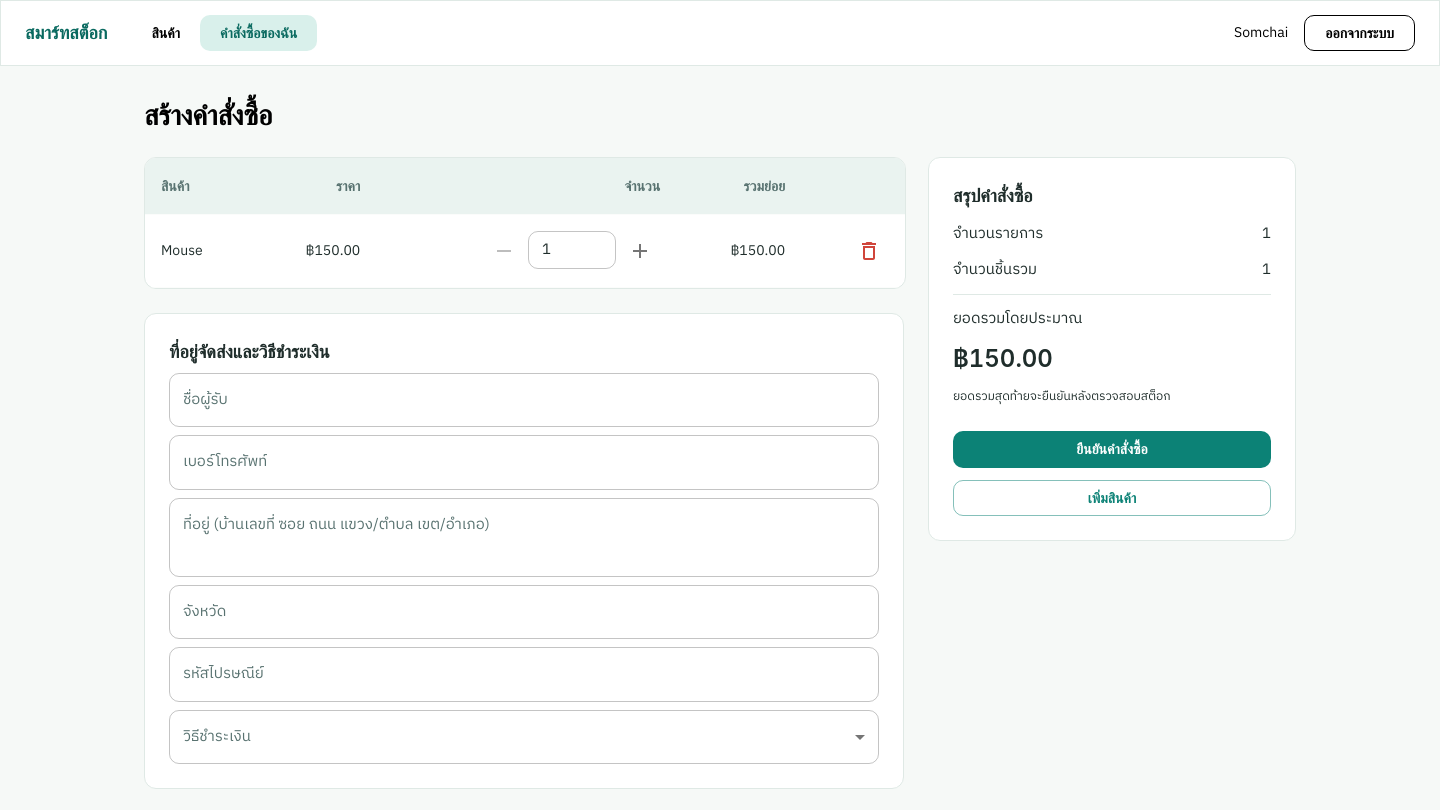
Test: disables confirm for an invalid quantity
This screenshot has width=1440, height=810.
Clear the number field named "จำนวน Mouse" at (572,250), box [528,231,616,269]
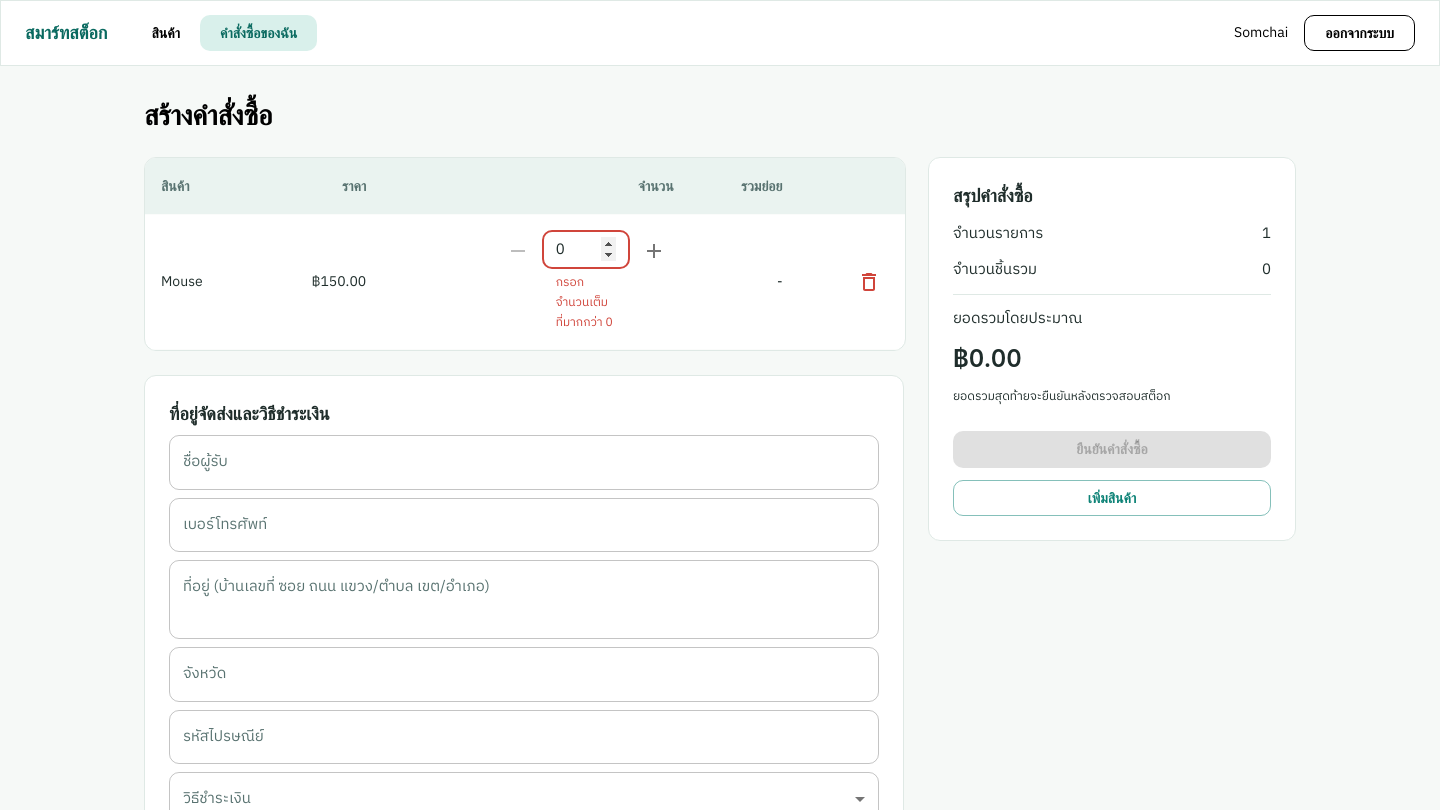
expect the text "กรอกจำนวนเต็มที่มากกว่า 0" is shown: met, box [556,273,616,333]
expect the button "ยืนยันคำสั่งซื้อ" is disabled: met, box [953,431,1271,468]
